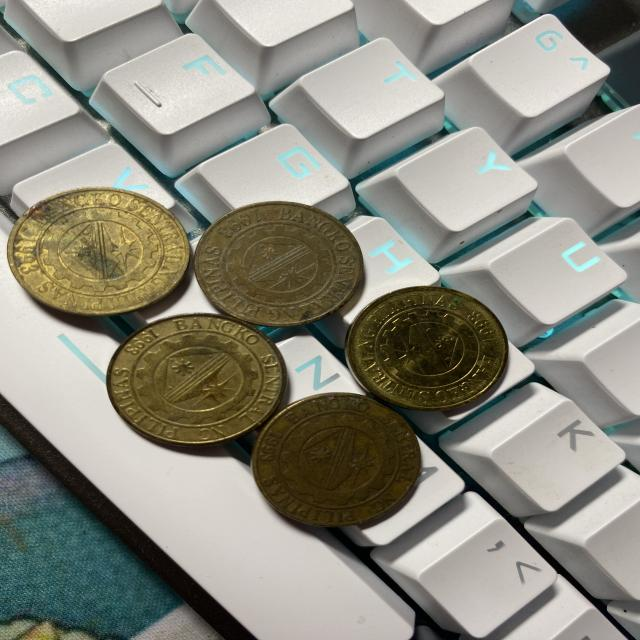25Cent_Old_Back: (119, 313, 277, 442), (17, 190, 183, 300), (284, 405, 423, 527), (202, 207, 354, 318), (366, 294, 497, 396)
